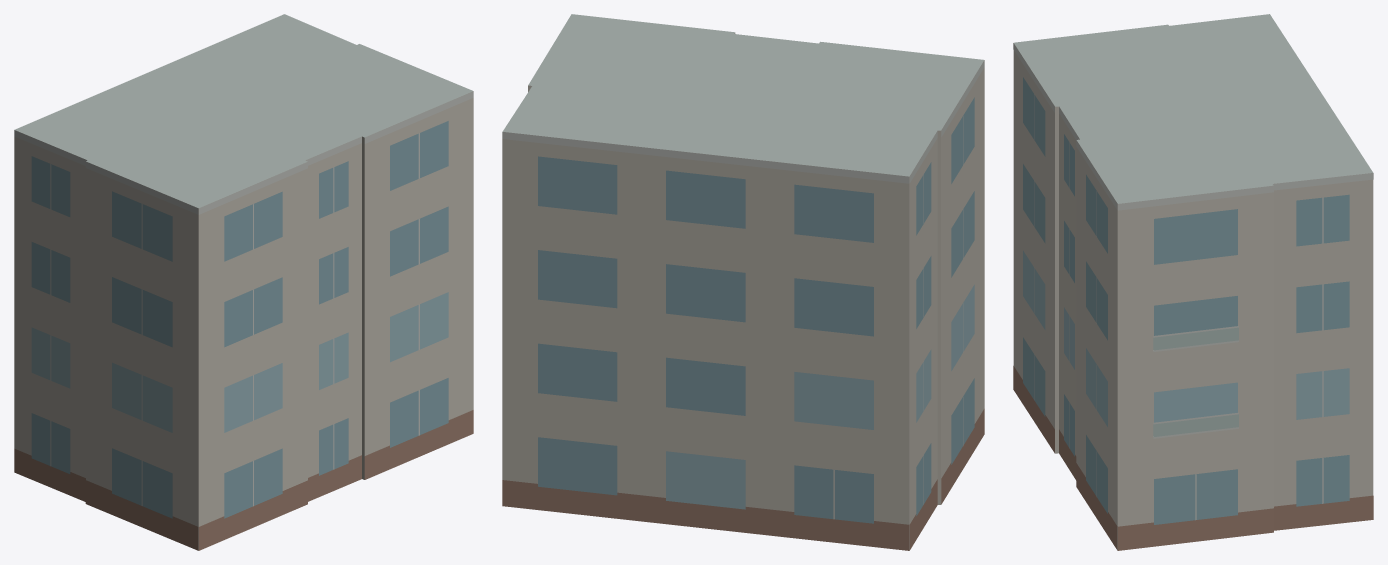
The model's file is survey-upis-32652797.glb.
3 renders of one model, left to right at view 1: azimuth 30°, elevation 25°; view 2: azimuth 150°, elevation 25°; view 3: azimuth 270°, elevation 25°, orthographic. The views are drawn at different scales.
Visible parts, largest first — view 1: survey-upis-32652797.tmp; view 2: survey-upis-32652797.tmp; view 3: survey-upis-32652797.tmp.
Boxes of the visible parts, <box> form: survey-upis-32652797.tmp: <box>14,14,473,550</box>; survey-upis-32652797.tmp: <box>502,14,984,550</box>; survey-upis-32652797.tmp: <box>1013,14,1373,550</box>.
Size of the model in its own units: 14.86 by 12.65 by 11.91.
